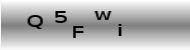5: (53, 10, 69, 24)
F: (72, 25, 85, 39)
Q: (26, 14, 43, 30)
i: (117, 23, 122, 37)
w: (93, 10, 112, 22)
